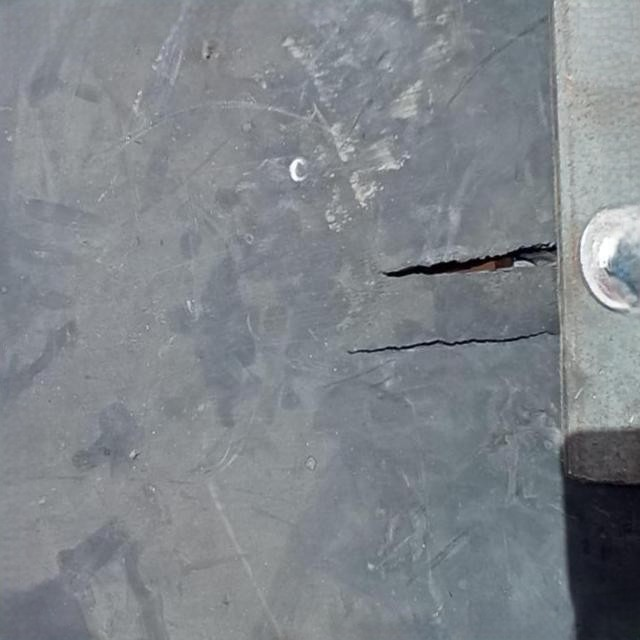Tear: (372, 205, 556, 296), (340, 316, 562, 369)
